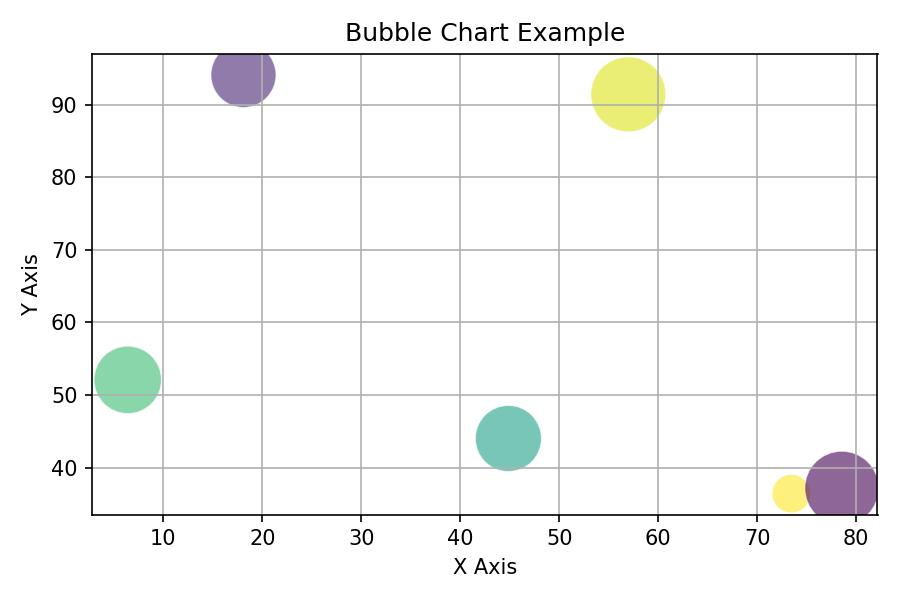axis: (72, 503, 886, 557), (50, 45, 102, 542)
circle: (590, 57, 668, 132), (805, 450, 875, 514), (96, 345, 161, 413), (476, 406, 543, 470), (211, 53, 278, 106), (771, 473, 810, 511)
